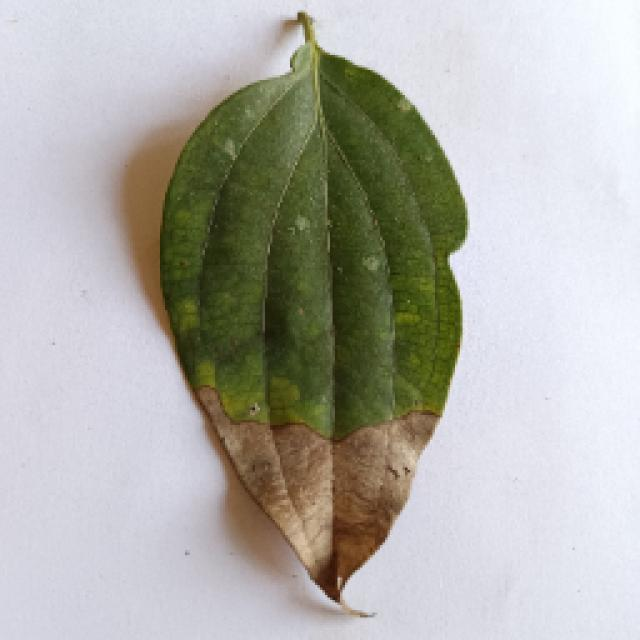footrot: (130, 23, 490, 615)
